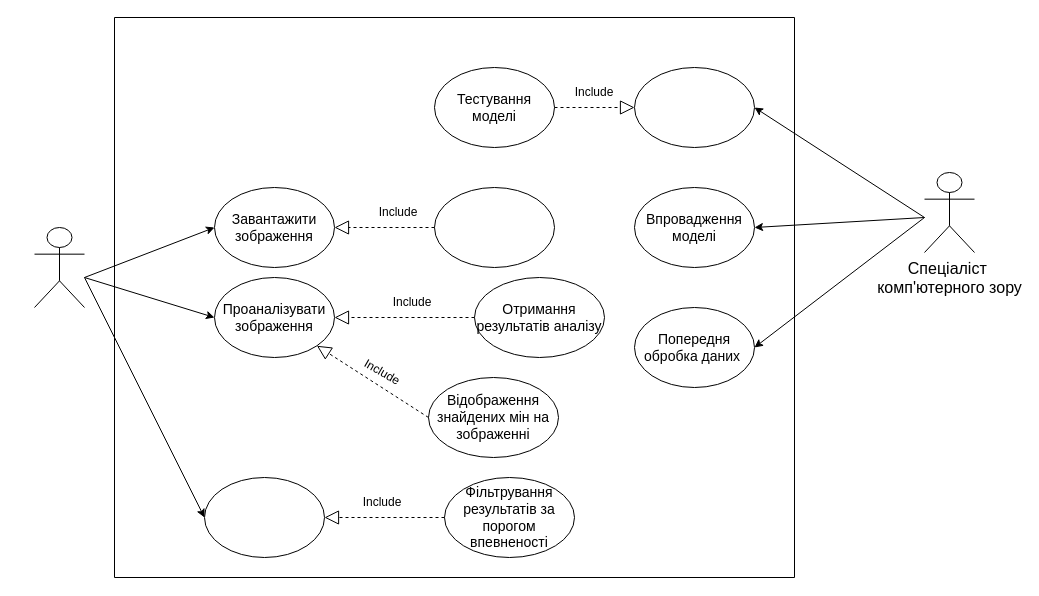
Some shapes in this 1039 by 596 pixel diagram are drawn without their labels. Each missing label, with the centre of its shape:
"Вибрати поріг впевненості" goes at point 264,517.
"Вибрати файл в діалоговому вікні" goes at point 494,227.
"Користувач" goes at point 59,267.
"Навчання моделі" goes at point 694,107.
